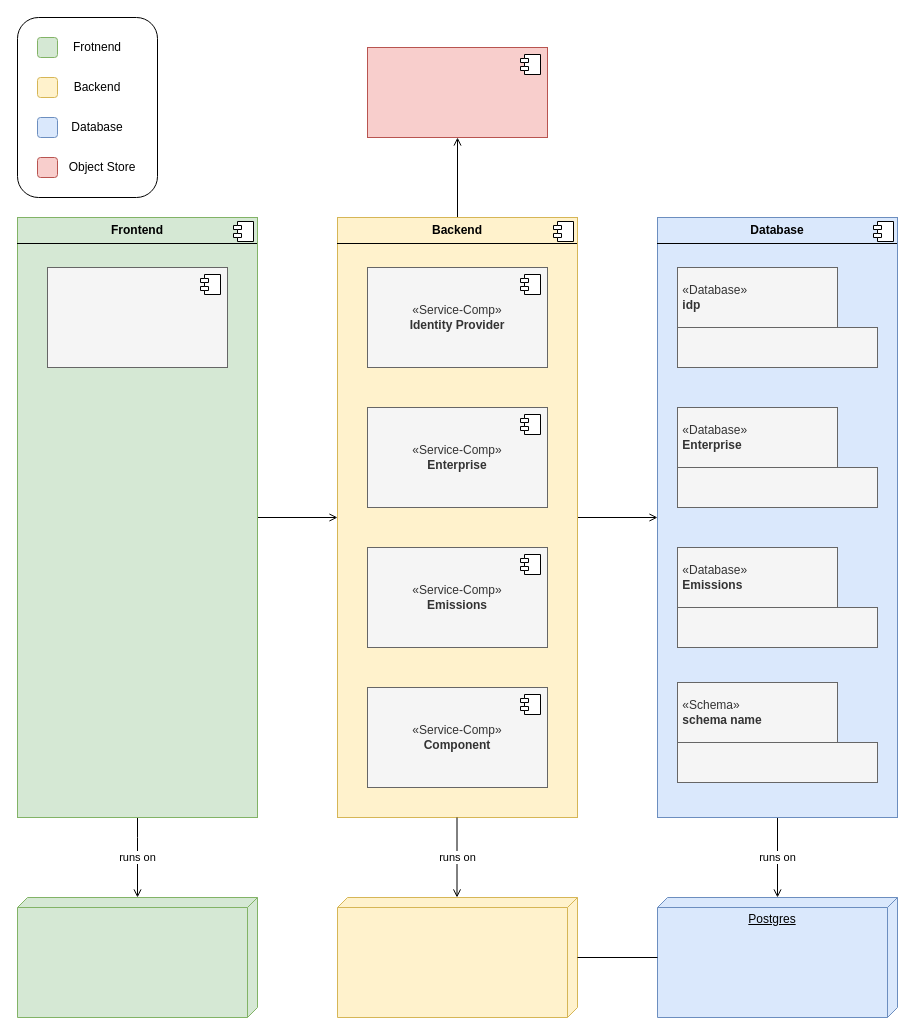
The diagram is 915 pixels wide and 1035 high, and some of its shapes have lost their labels. The shapes that lost their labels are listed below. From the top down, each one's centre as x and y in pixels, then its label:
At (457,92): "MinIO".
At (137,317): "Angular".
At (137,957): "«Excecution Envirnoment» Web browser".
At (457,957): "«Excecution Envirnoment» Azure".
